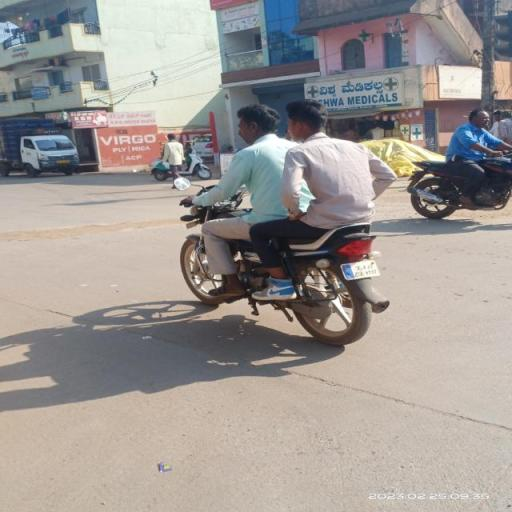bike: (176, 96, 402, 349)
numberplate: (338, 255, 386, 284)
withouthelmet: (286, 101, 324, 136), (236, 106, 274, 140)
